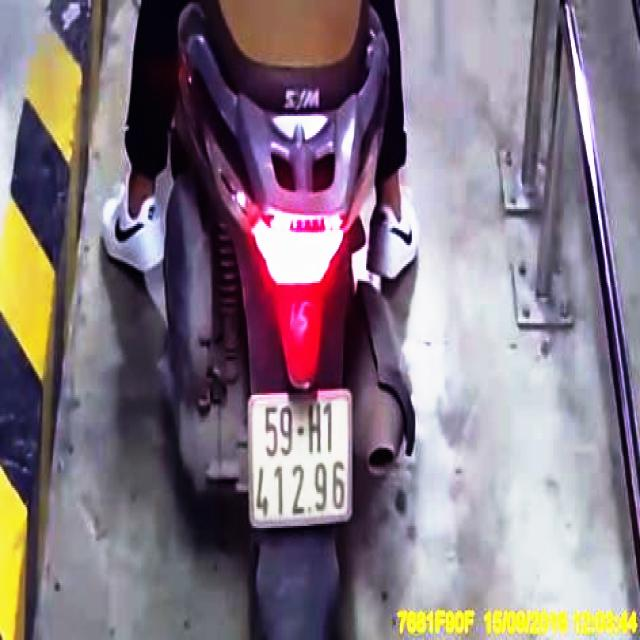license_plate: (253, 395, 350, 523)
